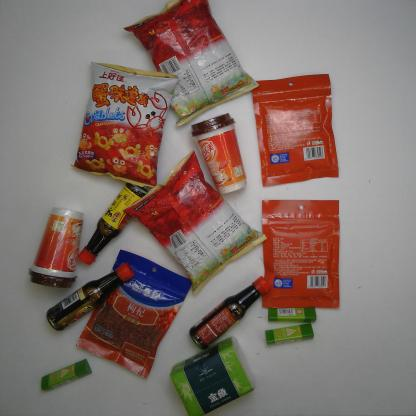Dried Fruit: (70, 246, 193, 383), (249, 72, 342, 188), (258, 195, 344, 313)
Instant Drink: (25, 202, 86, 293), (188, 110, 250, 198)
Puffed Food: (119, 146, 270, 300), (121, 2, 261, 127), (68, 60, 181, 189)
Seasoner: (185, 272, 276, 353), (41, 260, 138, 334), (74, 179, 152, 269)
Stationery: (37, 355, 95, 395), (260, 321, 318, 349), (265, 305, 319, 326)
Tissue: (167, 334, 258, 416)
